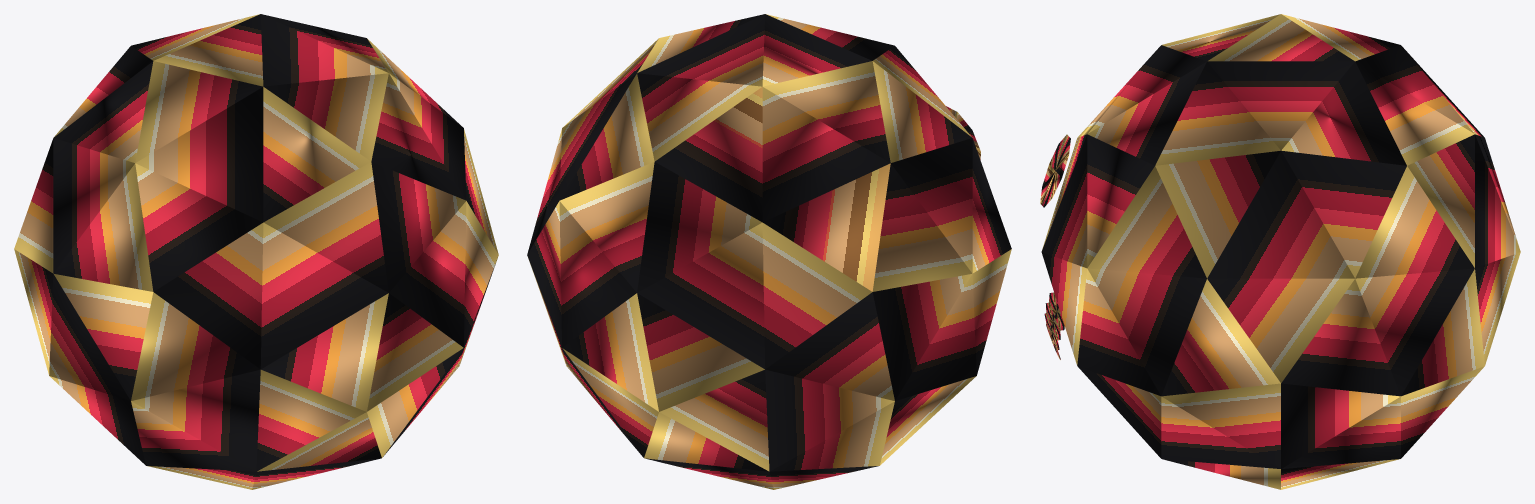
File: meh.glb
3 renders of one model, left to right at view 1: azimuth 30°, elevation 25°; view 2: azimuth 150°, elevation 25°; view 3: azimuth 270°, elevation 25°, orthographic.
Visible parts, largest first — view 1: meh; view 2: meh; view 3: meh.
Boxes of the visible parts, left/top/right/bottom form: meh: left=14, top=14, right=498, bottom=489; meh: left=527, top=14, right=1011, bottom=489; meh: left=1040, top=14, right=1520, bottom=489.
Size of the model in its own units: 1 by 1 by 1.
1 material, 1 textured.
